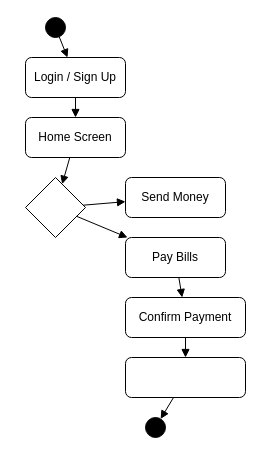
Image size: 264x455. Some labels were removed from this diagram. Here are the shapes that lost their labels. From the top down, the box of each, then its label:
(24, 176, 86, 238): Choose Action
(124, 356, 246, 398): Success Screen
